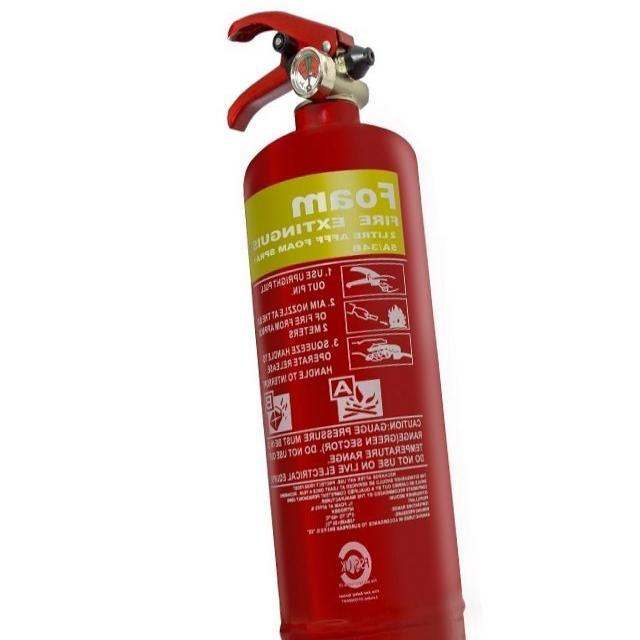fire_extinguisher: (216, 6, 474, 639)
